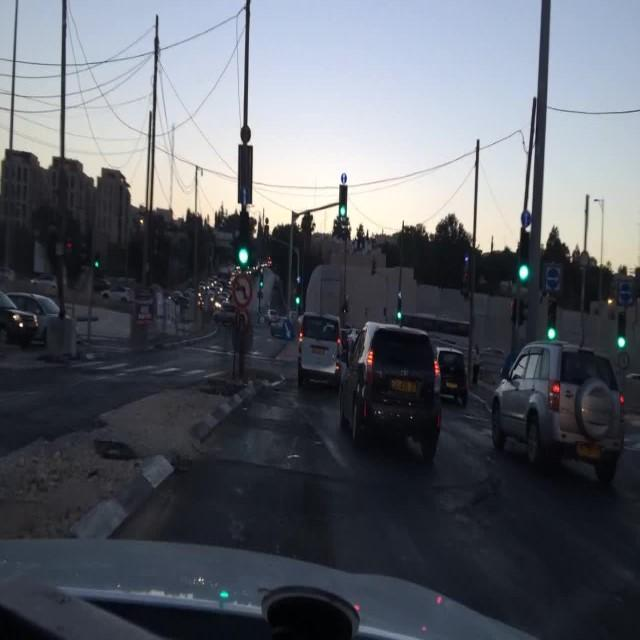normal: (273, 270, 635, 521)
